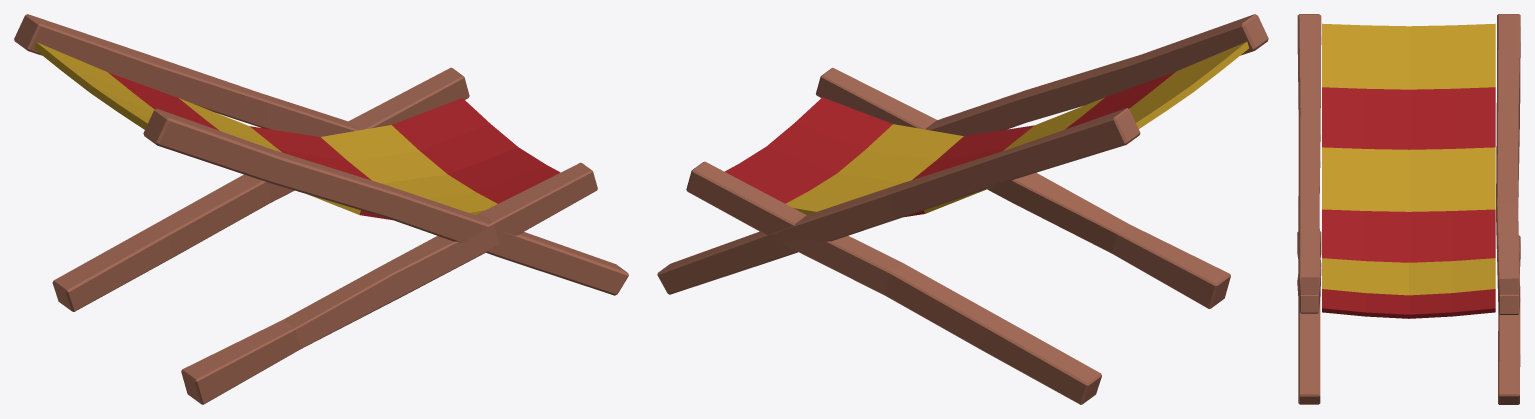
File: sezlong2.fbx
3 renders of one model, left to right at view 1: azimuth 30°, elevation 25°; view 2: azimuth 150°, elevation 25°; view 3: azimuth 270°, elevation 25°, orthographic. The views are drawn at different scales.
Visible parts, largest first — view 1: Cube.004; view 2: Cube.004; view 3: Cube.004.
Boxes of the visible parts, x1,y1,x2,y2 form: Cube.004: [14, 14, 628, 404]; Cube.004: [657, 14, 1268, 404]; Cube.004: [1297, 14, 1520, 404].
Bounding box in the file's own units: 335 × 201 × 177.
